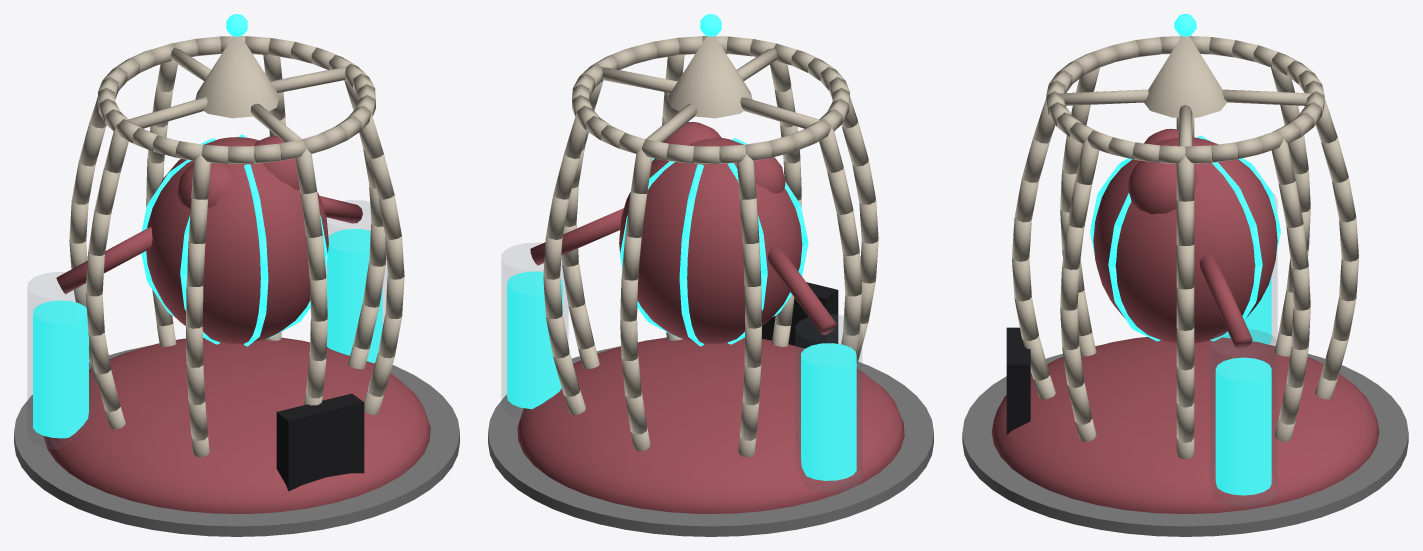
File: Forge_Heartforge.glb
3 views of the same model, side by side, from view 1: azimuth 30°, elevation 25°; view 2: azimuth 150°, elevation 25°; view 3: azimuth 270°, elevation 25° (orthographic).
Visible parts, largest first — view 1: Forge_Heartforge; view 2: Forge_Heartforge; view 3: Forge_Heartforge.
Part boxes in pixels (<box>): Forge_Heartforge: <box>14,14,459,536</box>; Forge_Heartforge: <box>488,14,933,536</box>; Forge_Heartforge: <box>962,14,1408,536</box>.
Size of the model in its own units: 4.6 by 5.35 by 4.6.
